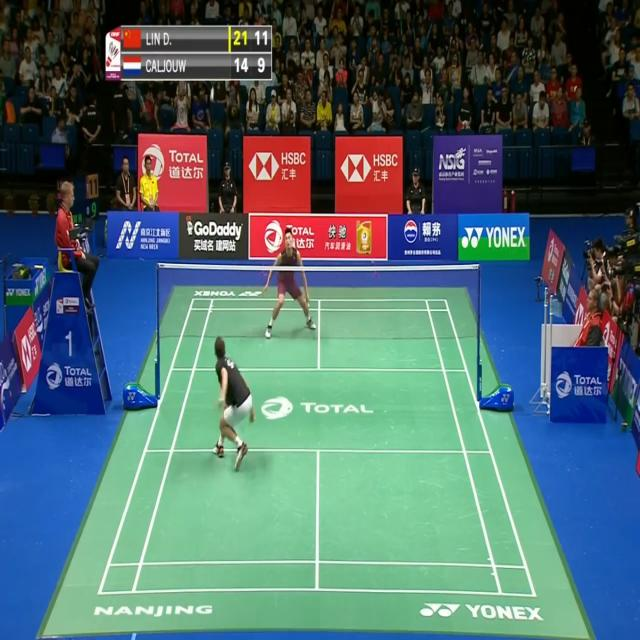Player1: (208, 332, 260, 474)
Player2: (262, 224, 320, 341)
